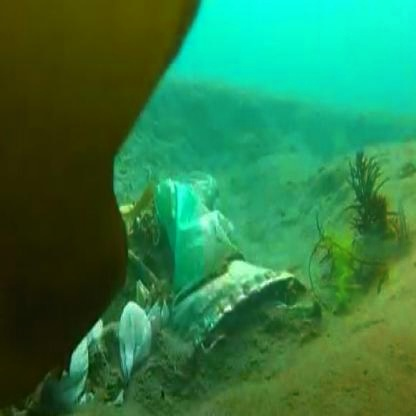plastic: (120, 152, 270, 350)
